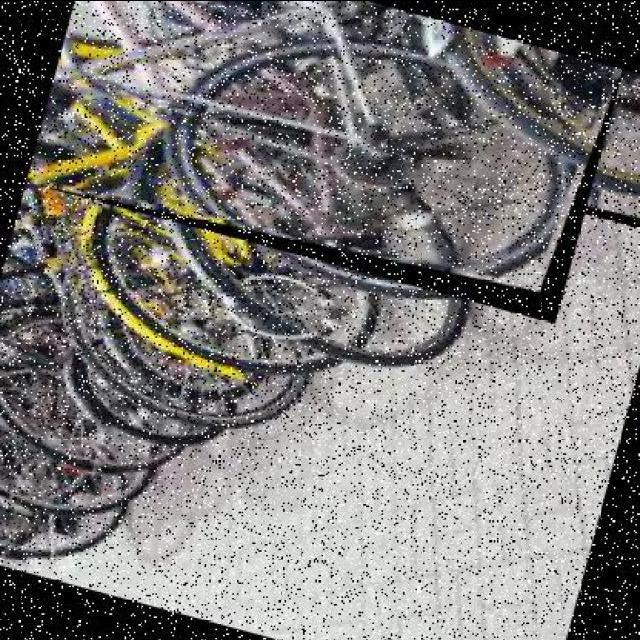bicycle: (26, 3, 628, 327), (309, 2, 640, 239)
